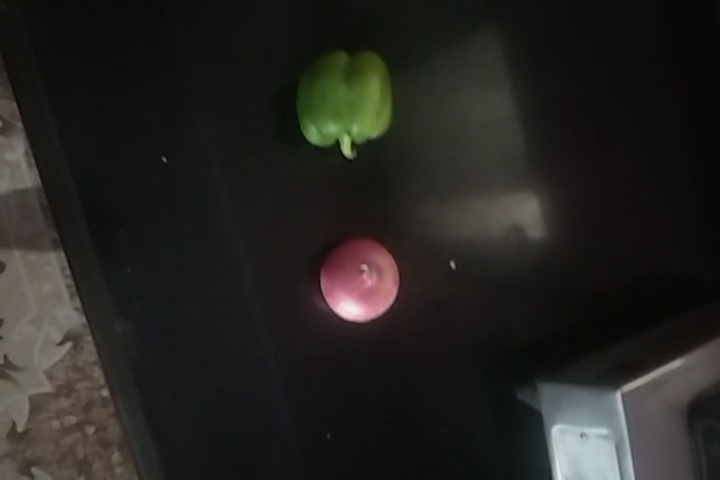capsicum: (295, 45, 390, 159)
onion: (318, 237, 404, 322)
